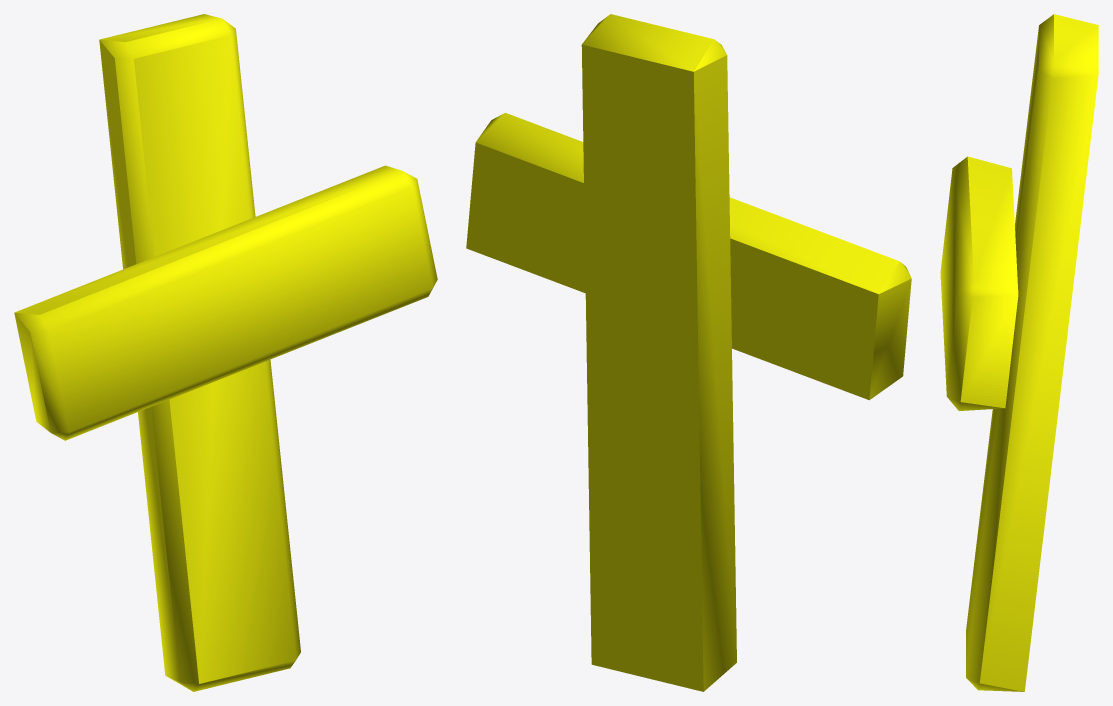
File: kaykit-gravemarker-a.glb
The picture shows the model from 3 angles, left to right: view 1: azimuth 30°, elevation 25°; view 2: azimuth 150°, elevation 25°; view 3: azimuth 270°, elevation 25°; orthographic projection. The views are drawn at different scales.
Parts seen in each view (by area): view 1: gravemarker_A; view 2: gravemarker_A; view 3: gravemarker_A.
Boxes of the visible parts, x1,y1,x2,y2 form: gravemarker_A: (14, 14, 437, 691); gravemarker_A: (466, 14, 911, 691); gravemarker_A: (940, 14, 1098, 691).
Bounding box in the file's own units: 0.8059 × 1.2 × 0.2782.
